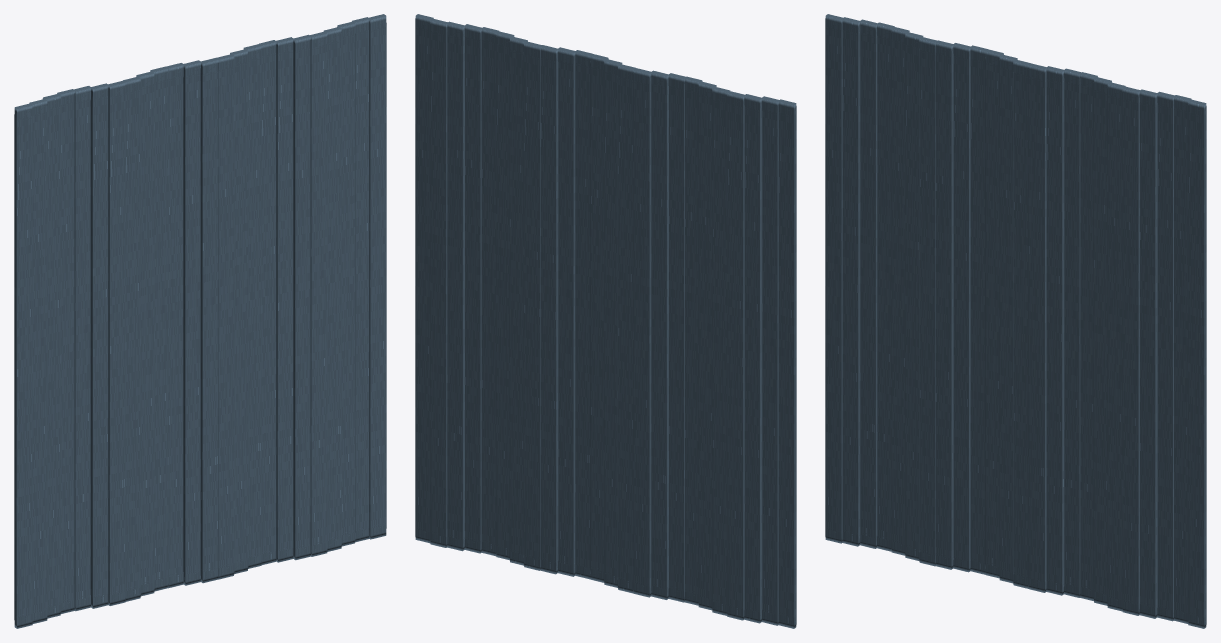
Rendered from curtain.glb.
3 views of the same model, side by side, from view 1: azimuth 30°, elevation 25°; view 2: azimuth 150°, elevation 25°; view 3: azimuth 330°, elevation 25° (orthographic).
Parts seen in each view (by area): view 1: pleat (×24); view 2: pleat (×24); view 3: pleat (×24).
Part boxes in pixels (box(x1,y1,x2,y2)): pleat (×24): box(14, 14, 386, 628); pleat (×24): box(415, 14, 796, 628); pleat (×24): box(825, 14, 1206, 628).
Bounding box in the file's own units: 1.2 × 1.6 × 0.0364.
1 material, 1 textured.
